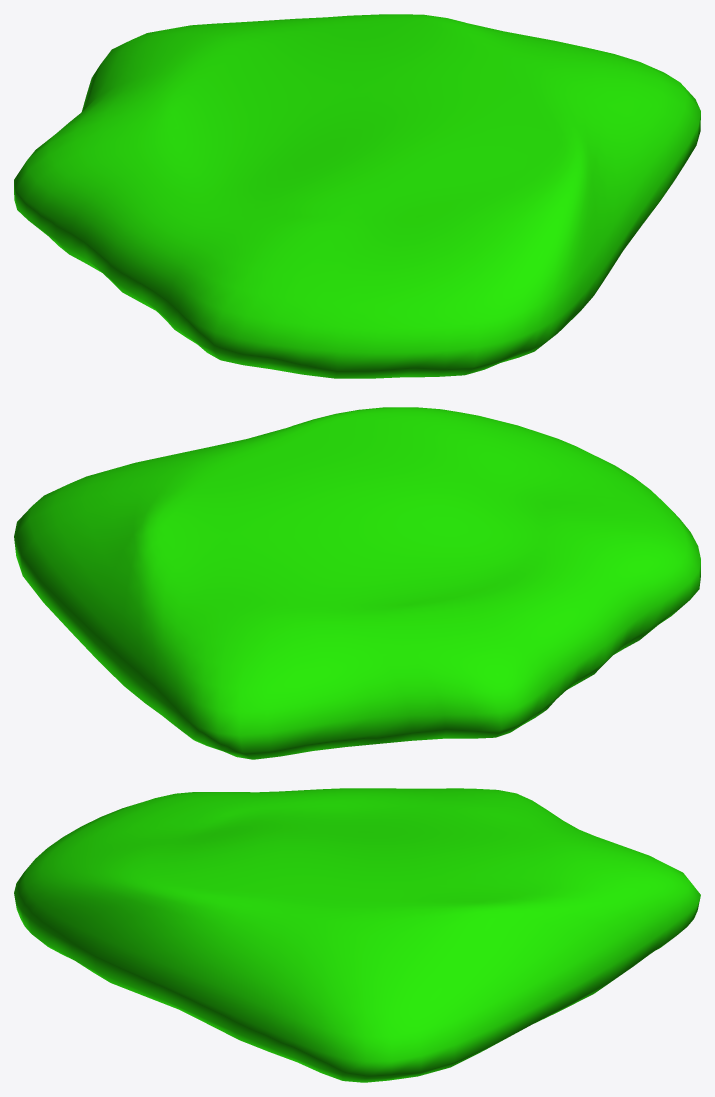
Rendered from SwampGround.fbx.
The picture shows the model from 3 angles, top to bottom: view 1: azimuth 30°, elevation 25°; view 2: azimuth 150°, elevation 25°; view 3: azimuth 270°, elevation 25°; orthographic projection. The views are drawn at different scales.
Parts seen in each view (by area): view 1: Ground; view 2: Ground; view 3: Ground.
Boxes of the visible parts, x1,y1,x2,y2 form: Ground: (14,14,700,378); Ground: (14,407,700,759); Ground: (14,788,700,1082).
Size of the model in its own units: 38.55 by 9.5 by 43.21.
